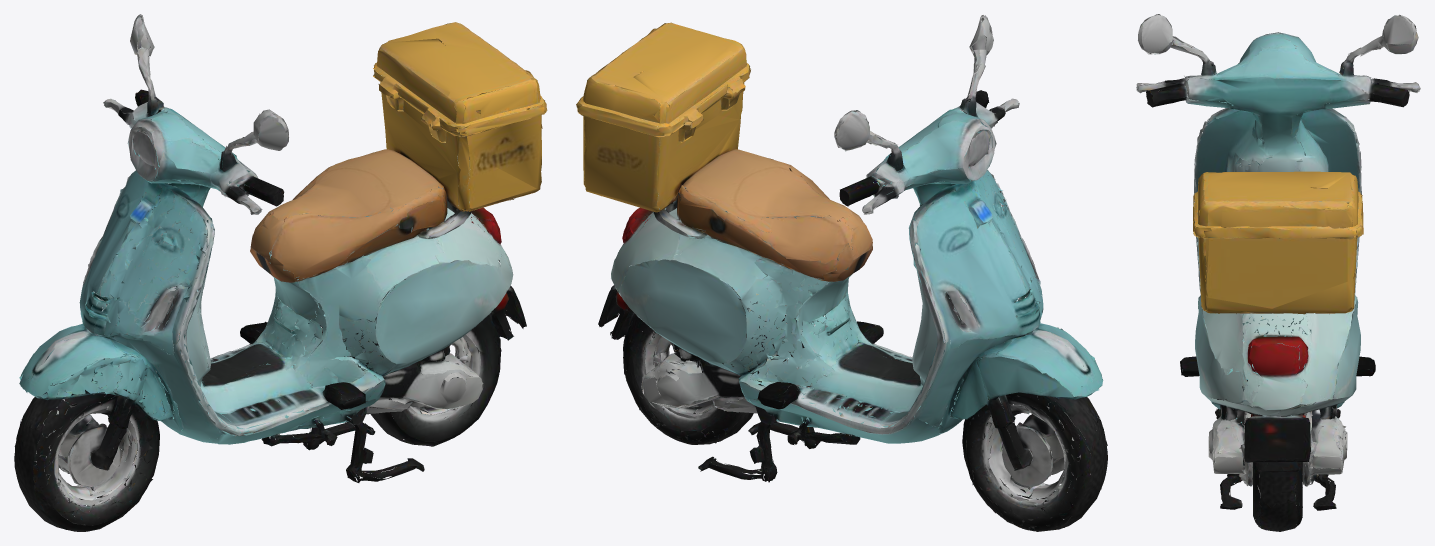
File: ebike.glb
The picture shows the model from 3 angles, left to right: view 1: azimuth 30°, elevation 25°; view 2: azimuth 150°, elevation 25°; view 3: azimuth 270°, elevation 25°; orthographic projection. The views are drawn at different scales.
Visible parts, largest first — view 1: world; view 2: world; view 3: world.
Part boxes in pixels (x1=…): world: x1=14, y1=14, x2=547, y2=531; world: x1=576, y1=15, x2=1107, y2=531; world: x1=1136, y1=14, x2=1420, y2=531.
Bounding box in the file's own units: 1.8 × 1.53 × 0.9629.
1 material, 1 textured.
